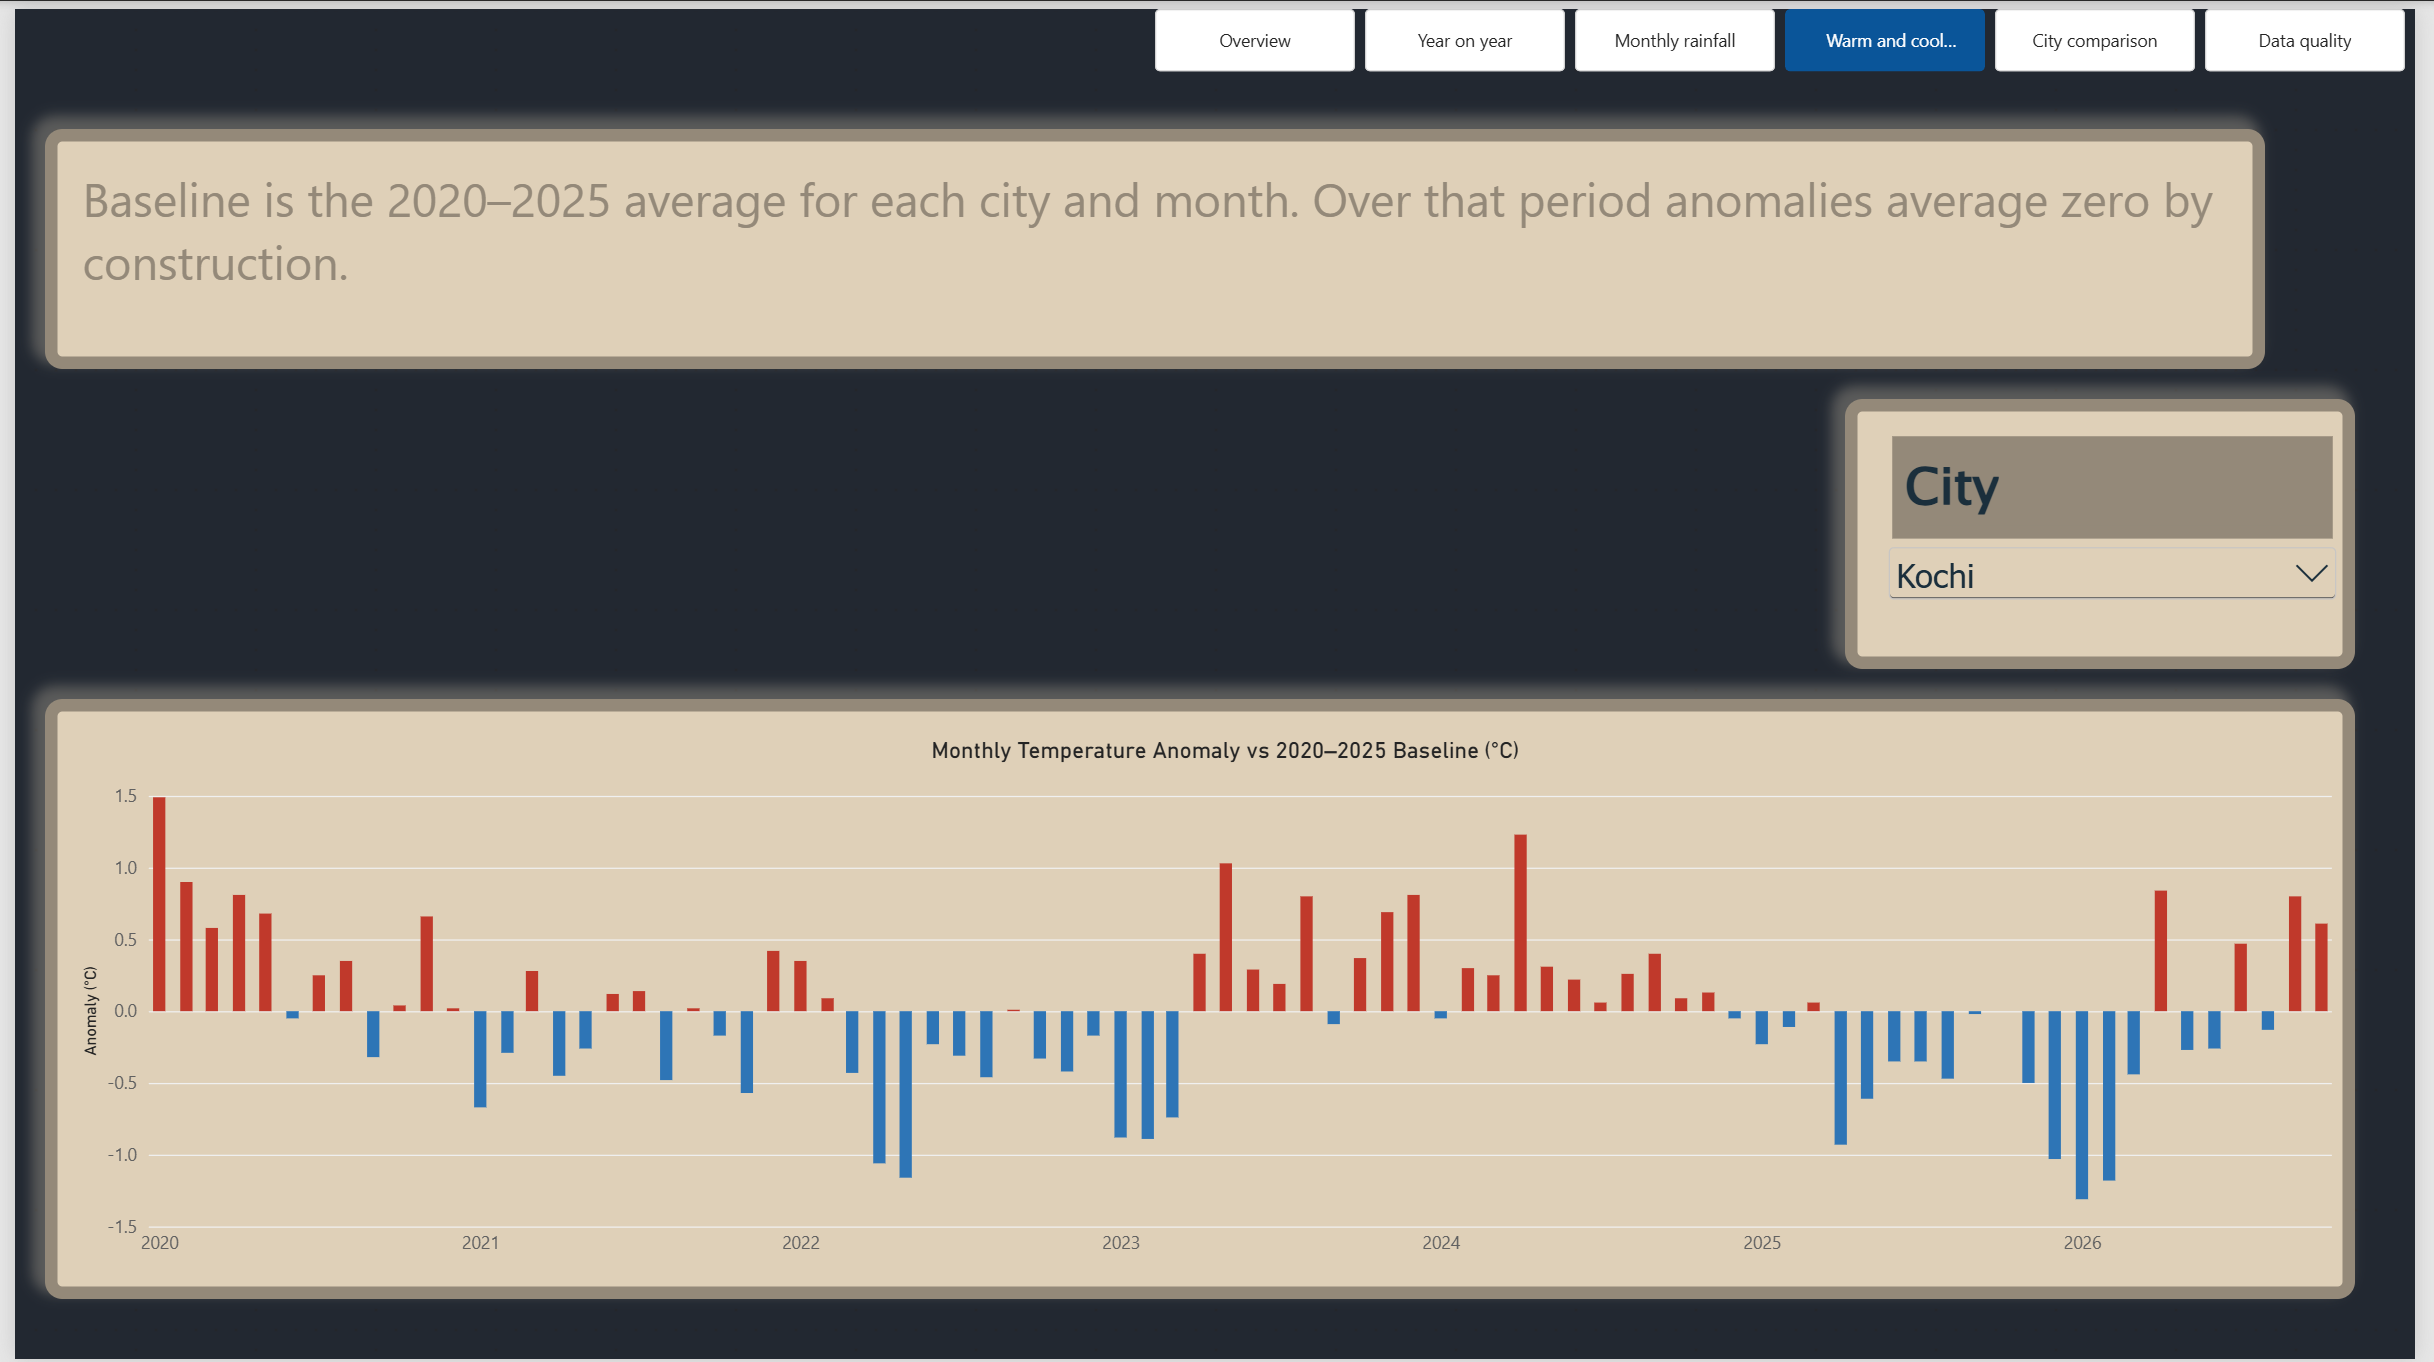

What the dashboard file says about the page in this screenshot:
{"tool":"powerbi","page":{"name":"Warm and cool months","canvas":[1920,1080],"ordinal":3},"visuals":[{"type":"slicer","fields":{"Values":["dim_city.city"]},"box":[1464,312,408,216],"z":0},{"type":"columnChart","title":"Monthly Temperature Anomaly vs 2020–2025 Baseline (°C)","fields":{"Category":["vw_monthly_temperature_anomalies.month_start"],"Y":["Avg(vw_monthly_temperature_anomalies.temperature_anomaly)"]},"box":[24,552,1848,480],"z":1000},{"type":"pageNavigator","box":[912,0,1000,50],"z":2000},{"type":"textbox","box":[24,96,1776,192],"z":3000}]}

Visuals, with their boxes in screenshot pixels (x1, y1, x2, y2), scaled from the page's 1920x1080 canvas onto the 2434x1362 screenshot:
slicer - dim_city.city: 1856,393,2373,666
"Monthly Temperature Anomaly vs 2020–2025 Baseline (°C)" columnChart: 30,696,2373,1301
pageNavigator: 1156,0,2424,63
textbox: 30,121,2282,363
